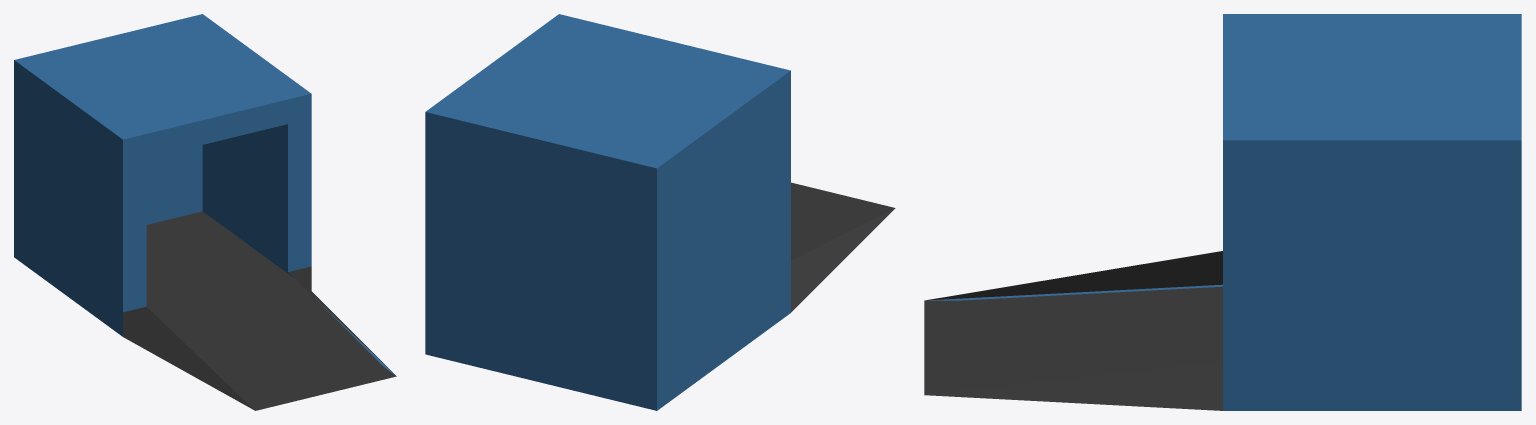
File: garage_n_driveway.obj
The picture shows the model from 3 angles, left to right: view 1: azimuth 30°, elevation 25°; view 2: azimuth 150°, elevation 25°; view 3: azimuth 270°, elevation 25°; orthographic projection. The views are drawn at different scales.
Parts seen in each view (by area): view 1: Cube; view 2: Cube; view 3: Cube.
Part boxes in pixels (x1,y1,x2,y2): Cube: (14, 14, 396, 410); Cube: (425, 14, 895, 410); Cube: (924, 14, 1521, 410).
Bounding box in the file's own units: 4 × 4 × 8.
